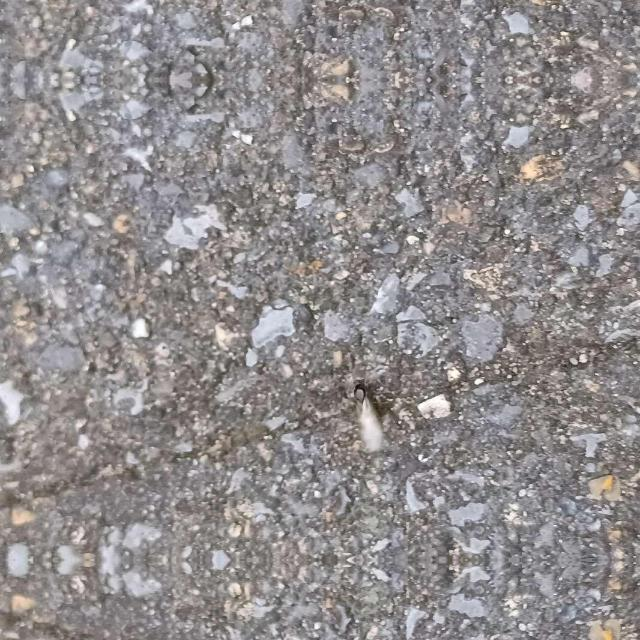Tetramorium: (331, 370, 397, 452)
